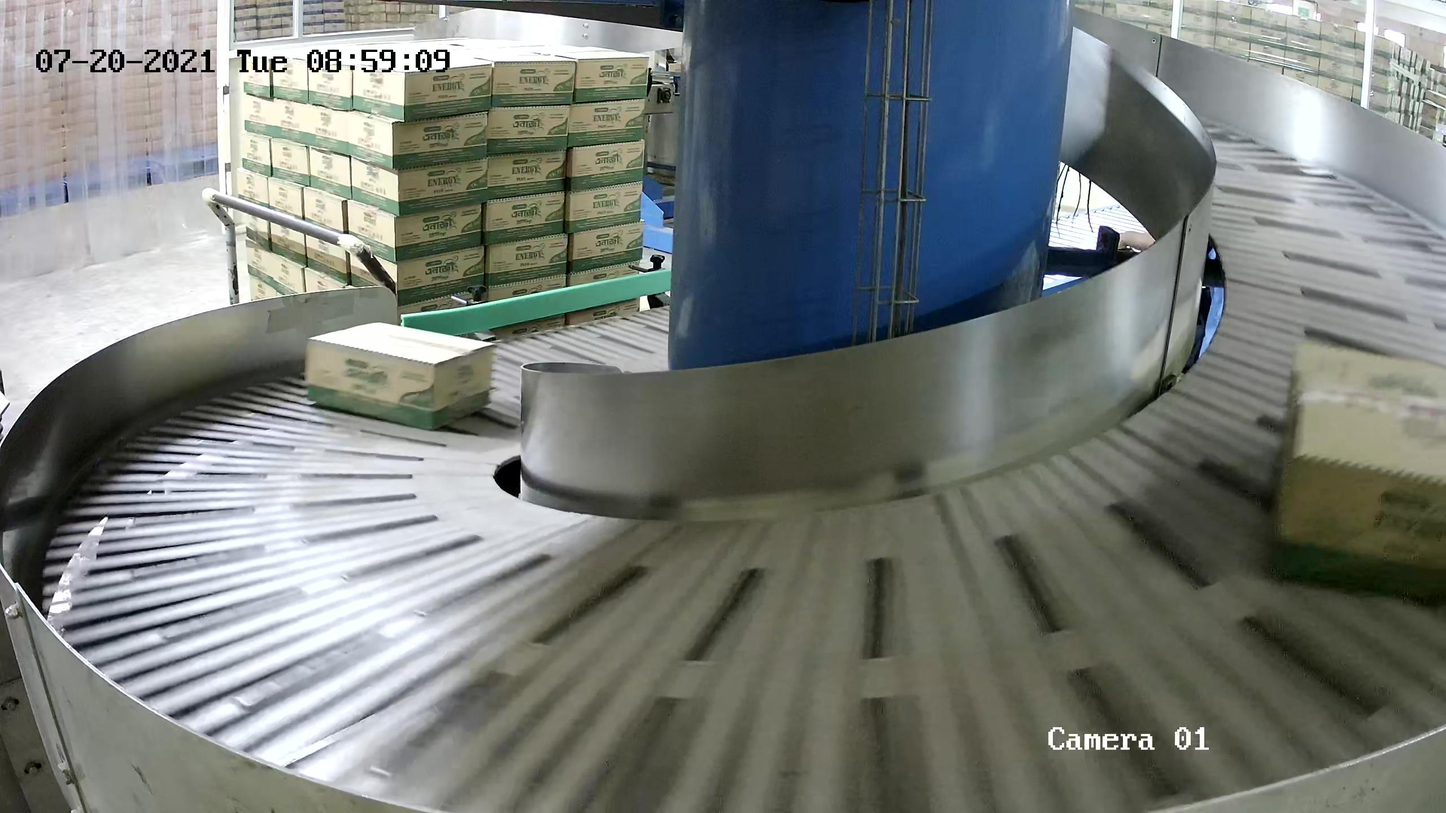Box: (1261, 342, 1446, 616), (305, 321, 494, 433)
